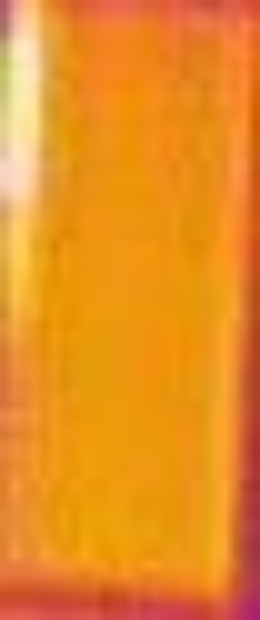Diode: (1, 1, 52, 340)
